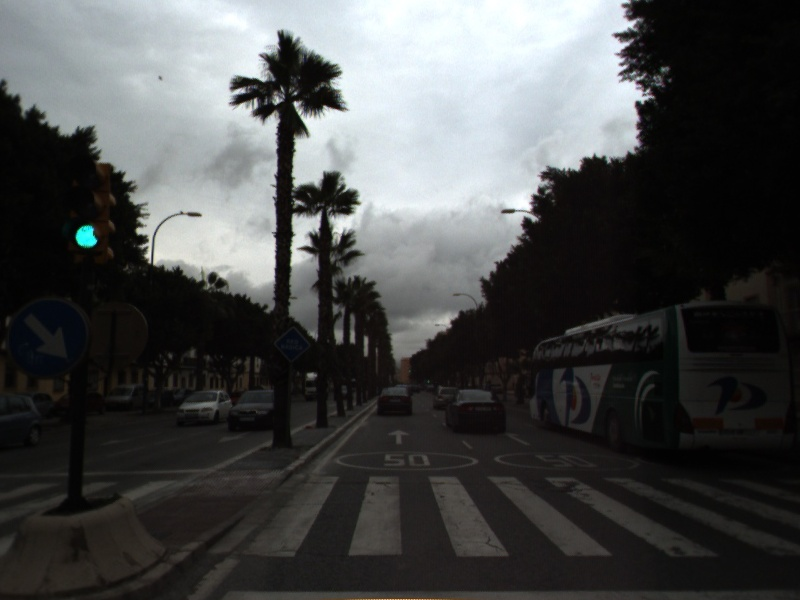STRAIGHT: (497, 430, 533, 448), (385, 427, 413, 446)
